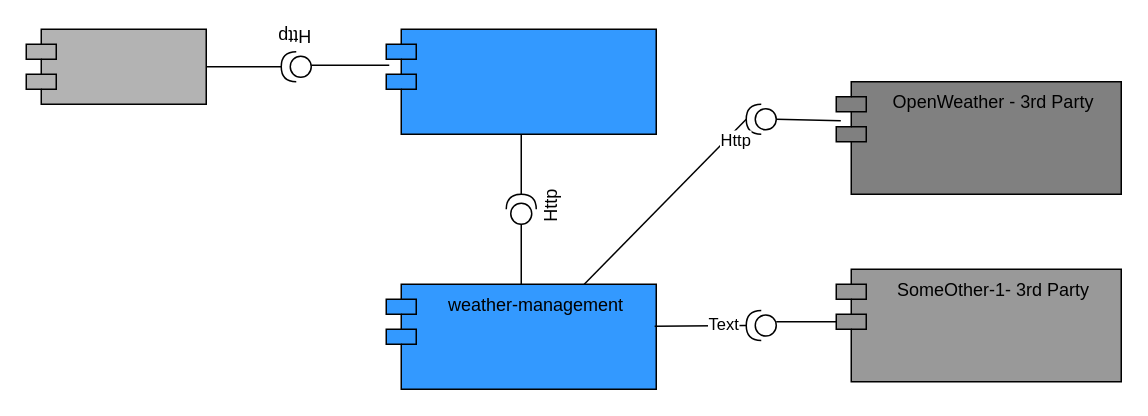
Some shapes in this 1148 by 416 pixel diagram are drawn without their labels. Each missing label, with the box of its shape:
Api-Gateway: (385, 28, 656, 134)
Client: (25, 28, 206, 104)
